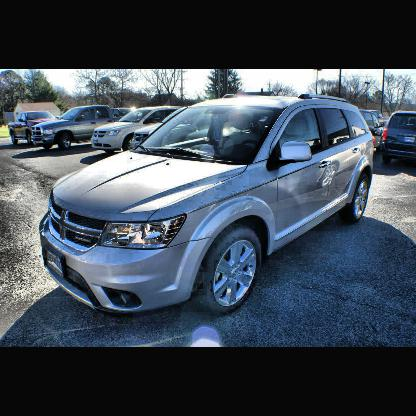Dodge Journey SUV 2012: (41, 93, 376, 314)
